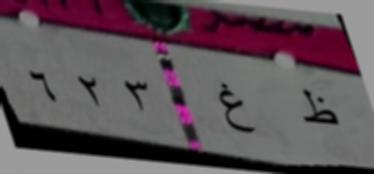2: (76, 73, 102, 109)
3: (123, 77, 152, 118)
6: (28, 69, 59, 109)
Thaa: (298, 86, 342, 136)
ghayn: (213, 77, 255, 139)
